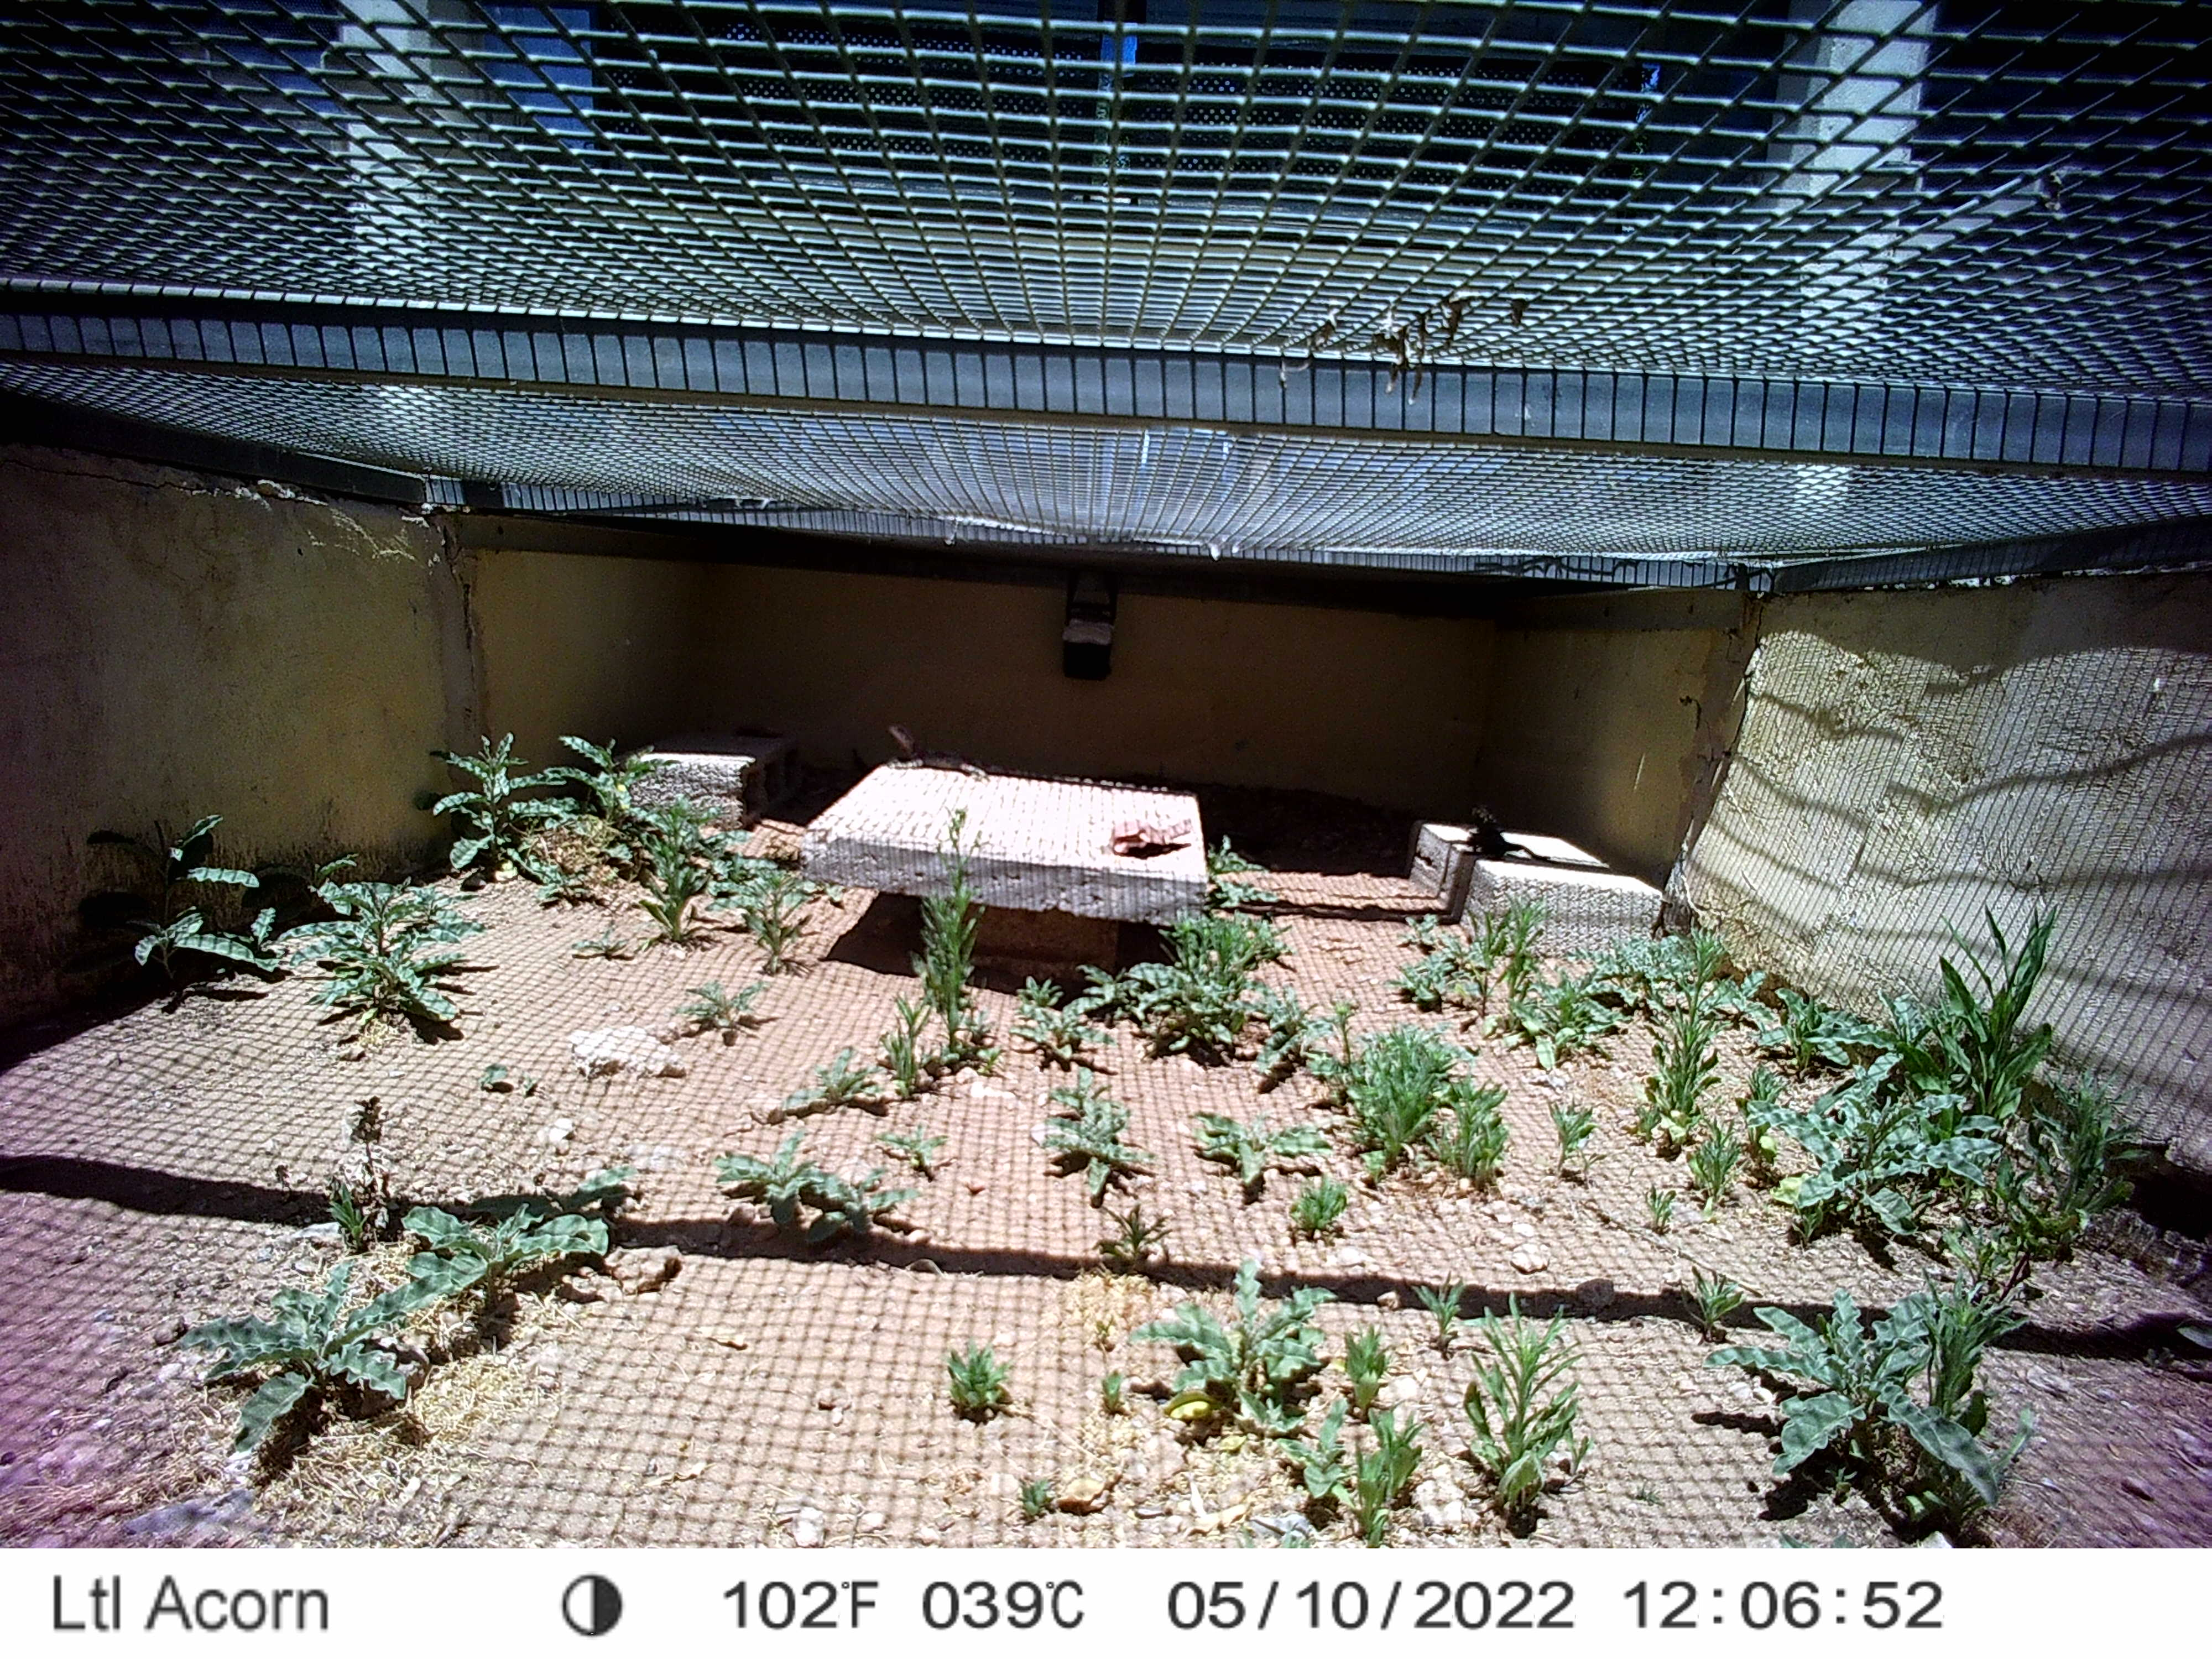lizard: (880, 720, 1036, 782), (1456, 800, 1561, 864)
